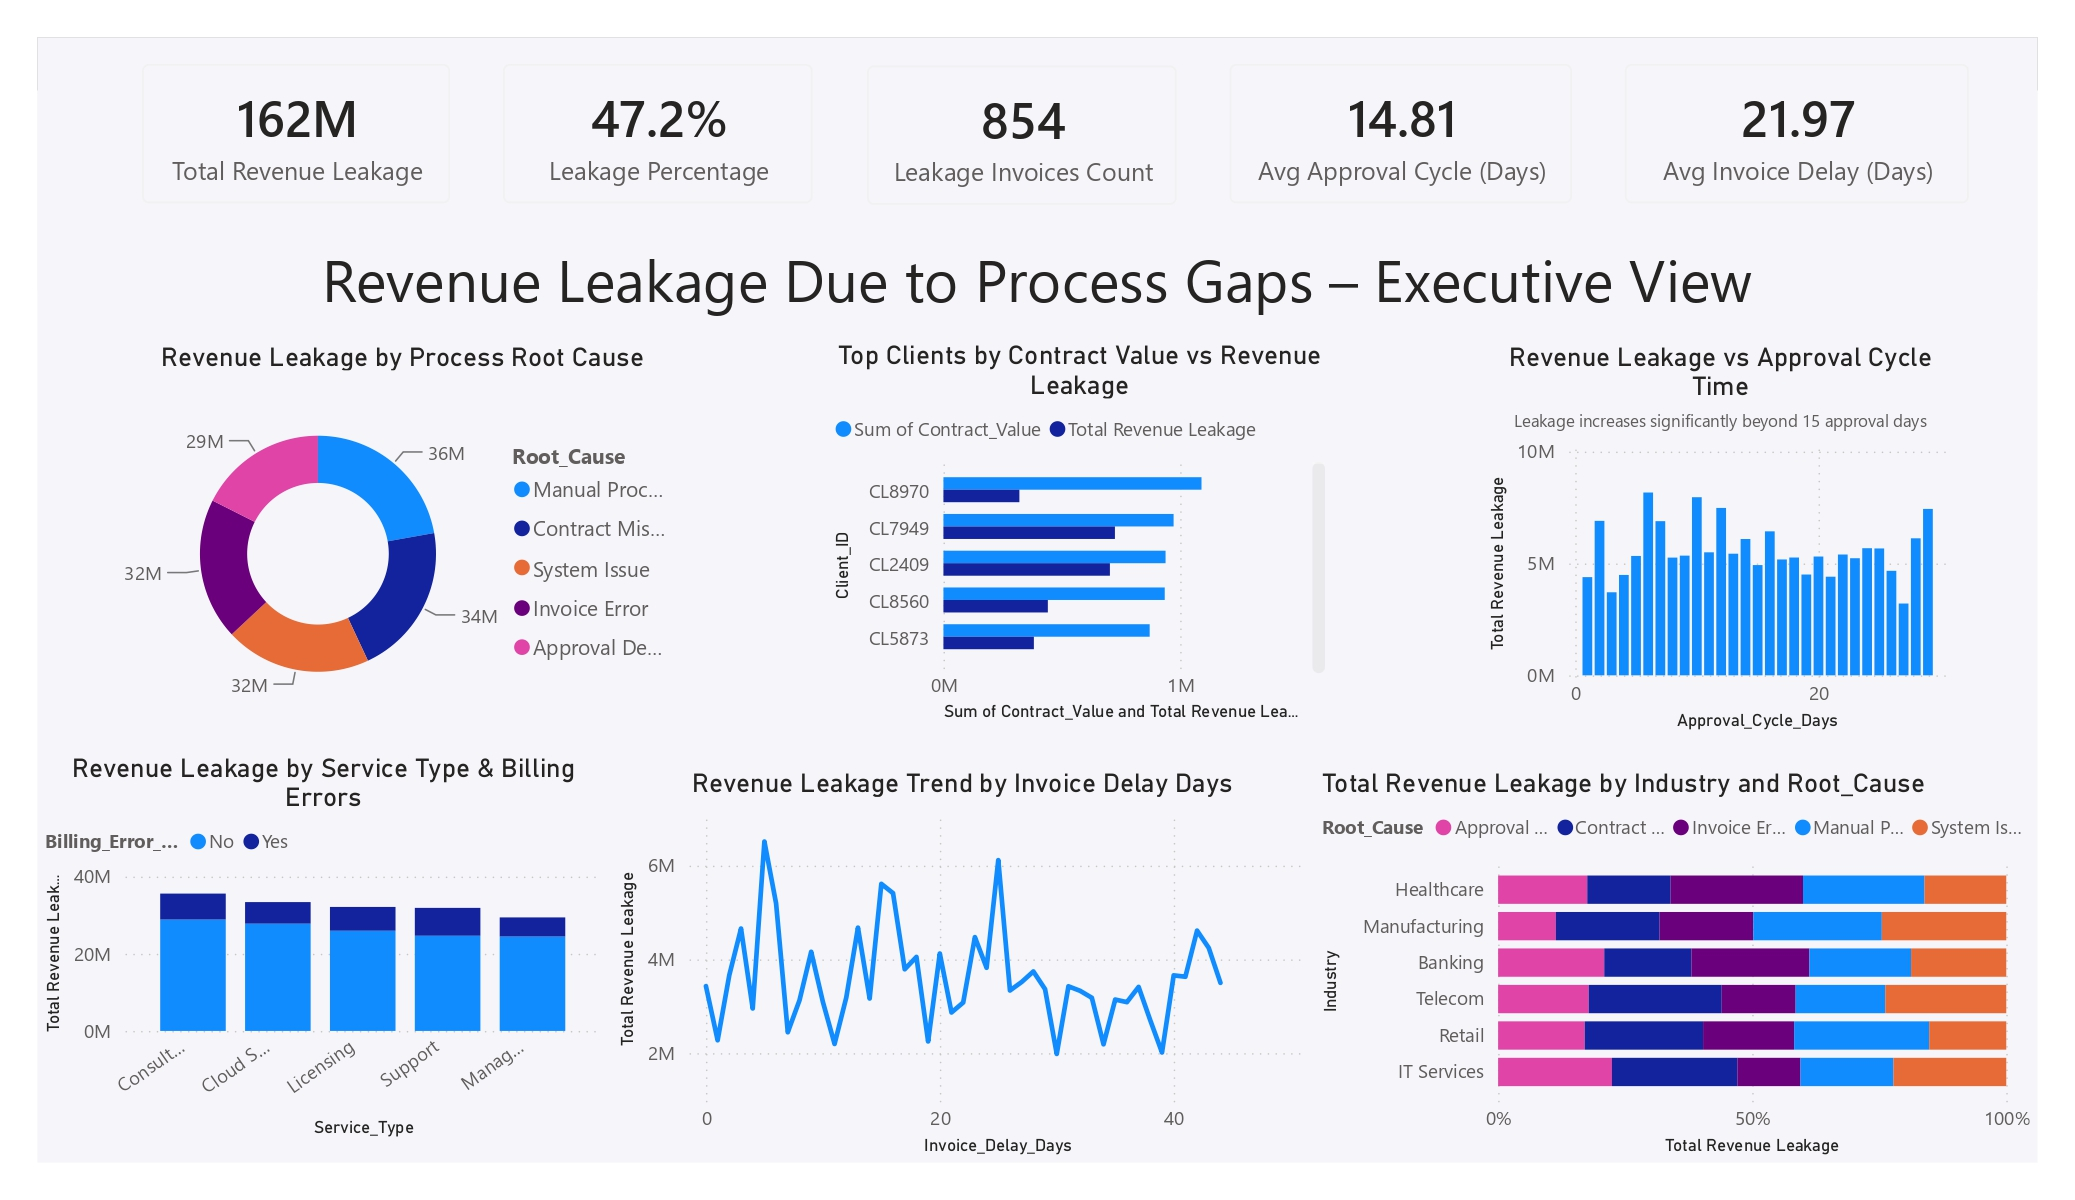

What the dashboard file says about the page in this screenshot:
{"tool":"powerbi","page":{"name":"Page 1","canvas":[1280,720],"ordinal":0},"visuals":[{"type":"cardVisual","fields":{"Data":["Sheet1.Total Revenue Leakage"]},"box":[50.1,0,231.1,123.5],"z":0},{"type":"cardVisual","fields":{"Data":["Sheet1.Leakage Percentage"]},"box":[281.3,0,232.3,123.5],"z":2},{"type":"cardVisual","fields":{"Data":["Sheet1.Leakage Invoices Count"]},"box":[513.6,1.2,232.3,123.5],"z":3},{"type":"cardVisual","fields":{"Data":["Sheet1.Avg Approval Cycle (Days)"]},"box":[745.9,0,253.1,123.5],"z":4},{"type":"cardVisual","fields":{"Data":["Sheet1.Avg Invoice Delay (Days)"]},"box":[999.1,0,254.3,123.5],"z":5},{"type":"donutChart","title":"Revenue Leakage by Process Root Cause","fields":{"Category":["Sheet1.Root_Cause"],"Y":["Sheet1.Total Revenue Leakage"]},"box":[50.1,194.4,366.8,253.1],"z":6},{"type":"columnChart","title":"Revenue Leakage by Service Type & Billing Errors","fields":{"Category":["Sheet1.Service_Type"],"Y":["Sheet1.Total Revenue Leakage"],"Series":["Sheet1.Billing_Error_Flag"]},"box":[0,457,366,252],"z":7},{"type":"clusteredBarChart","title":"Top Clients by Contract Value vs Revenue Leakage","fields":{"Category":["Sheet1.Client_ID"],"Y":["Sum(Sheet1.Contract_Value)","Sheet1.Total Revenue Leakage"]},"box":[505,193.2,324.1,253.1],"z":8},{"type":"lineChart","title":"Revenue Leakage Trend by Invoice Delay Days","fields":{"Category":["Sheet1.Invoice_Delay_Days"],"Y":["Sheet1.Total Revenue Leakage"]},"box":[366.8,467.1,450,253.1],"z":9},{"type":"clusteredColumnChart","title":"Revenue Leakage vs Approval Cycle Time","fields":{"Category":["Sheet1.Approval_Cycle_Days"],"Y":["Sheet1.Total Revenue Leakage"]},"box":[924.5,194.4,305.7,253.1],"z":10},{"type":"hundredPercentStackedBarChart","fields":{"Category":["Sheet1.Industry"],"Y":["Sheet1.Total Revenue Leakage"],"Series":["Sheet1.Root_Cause"]},"box":[816.9,467.1,463.5,253.1],"z":11},{"type":"textbox","box":[0,123.5,1280.3,70.9],"z":12}]}

Visuals, with their boxes on the page's 1280x720 design canvas (x1, y1, x2, y2). These are canvas units, not pixel positions in the 2075x1200 screenshot, which may show the page scaled, cropped or inside an application window:
cardVisual - Sheet1.Total Revenue Leakage: 50, 0, 281, 124
cardVisual - Sheet1.Leakage Percentage: 281, 0, 514, 124
cardVisual - Sheet1.Leakage Invoices Count: 514, 1, 746, 125
cardVisual - Sheet1.Avg Approval Cycle (Days): 746, 0, 999, 124
cardVisual - Sheet1.Avg Invoice Delay (Days): 999, 0, 1253, 124
"Revenue Leakage by Process Root Cause" donutChart: 50, 194, 417, 448
"Revenue Leakage by Service Type & Billing Errors" columnChart: 0, 457, 366, 709
"Top Clients by Contract Value vs Revenue Leakage" clusteredBarChart: 505, 193, 829, 446
"Revenue Leakage Trend by Invoice Delay Days" lineChart: 367, 467, 817, 720
"Revenue Leakage vs Approval Cycle Time" clusteredColumnChart: 924, 194, 1230, 448
hundredPercentStackedBarChart - Sheet1.Industry x Sheet1.Total Revenue Leakage: 817, 467, 1280, 720
textbox: 0, 124, 1280, 194
